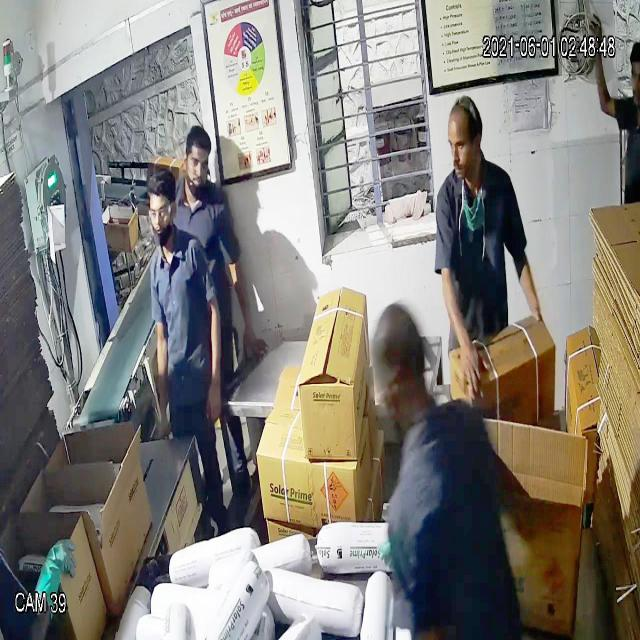glasses: (144, 200, 177, 231)
no-glass: (442, 131, 488, 165), (183, 148, 213, 178)
